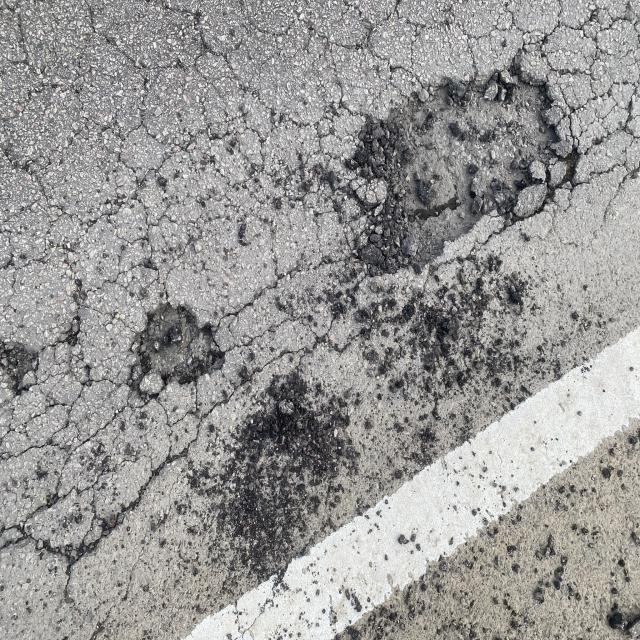pothole: (289, 26, 599, 288), (112, 283, 259, 437)
